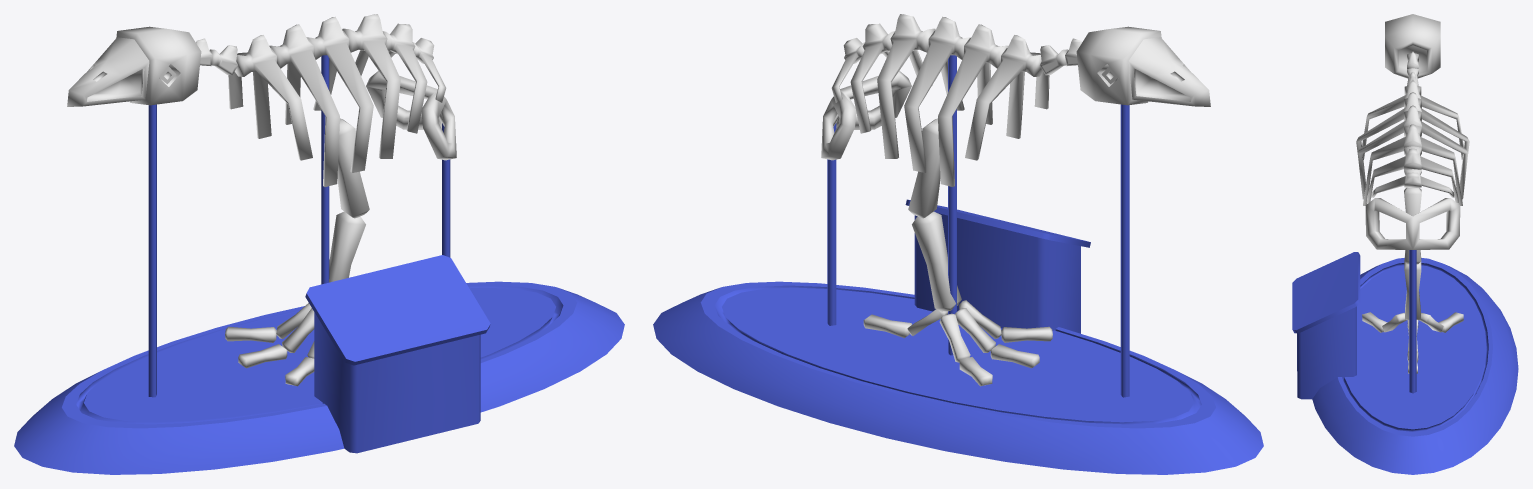
File: damnnn.fbx
The picture shows the model from 3 angles, left to right: view 1: azimuth 30°, elevation 25°; view 2: azimuth 150°, elevation 25°; view 3: azimuth 270°, elevation 25°; orthographic projection. The views are drawn at different scales.
Visible parts, largest first — view 1: Circle; view 2: Circle; view 3: Circle.
Boxes of the visible parts, <box> form: Circle: <box>14,14,624,474</box>; Circle: <box>653,14,1263,474</box>; Circle: <box>1292,14,1518,474</box>.
Size of the model in its own units: 1678 by 1070 by 756.
